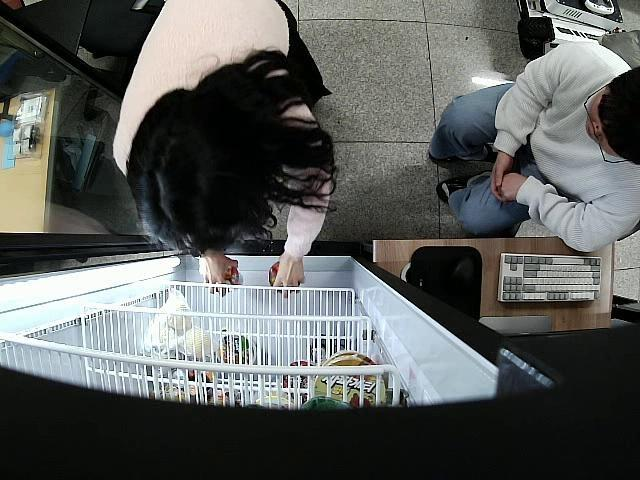06_nuguri_S: (268, 262, 299, 296), (212, 264, 241, 293)
